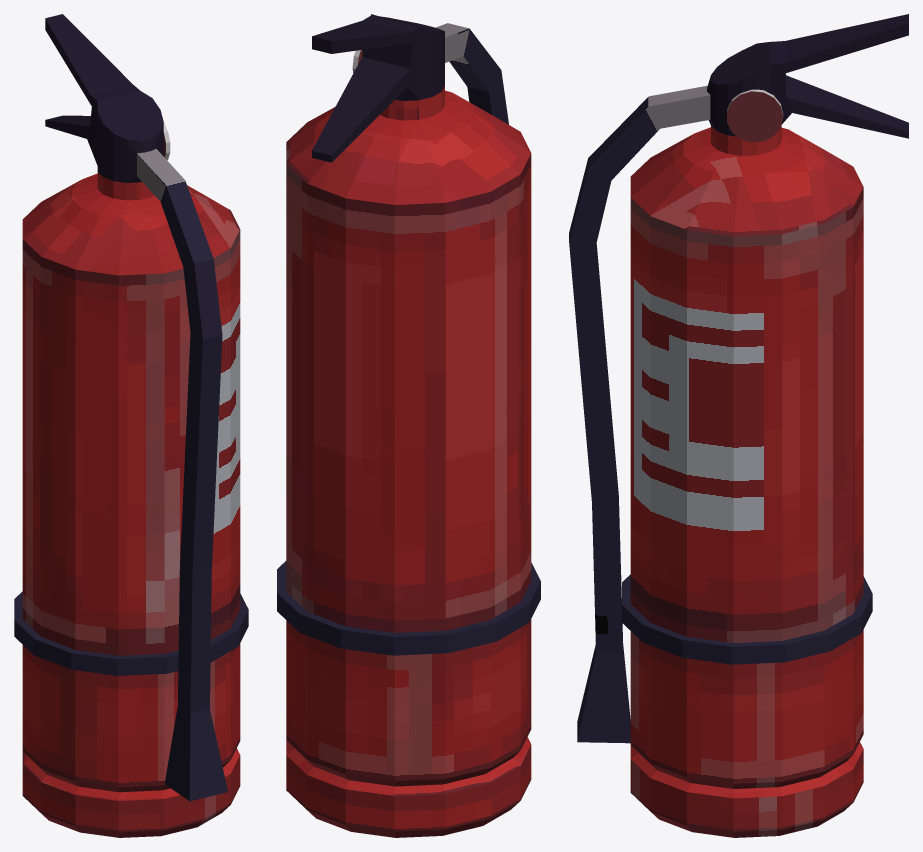
Rendered from Fire extinguisher.fbx.
3 views of the same model, side by side, from view 1: azimuth 30°, elevation 25°; view 2: azimuth 150°, elevation 25°; view 3: azimuth 270°, elevation 25° (orthographic). The views are drawn at different scales.
Visible parts, largest first — view 1: Fire extinguisher; view 2: Fire extinguisher; view 3: Fire extinguisher.
Part boxes in pixels (bbox=[...]): Fire extinguisher: bbox=[14, 14, 248, 837]; Fire extinguisher: bbox=[277, 14, 540, 837]; Fire extinguisher: bbox=[569, 14, 908, 837].
Size of the model in its own units: 115 by 391 by 156.
1 material, 1 textured.
